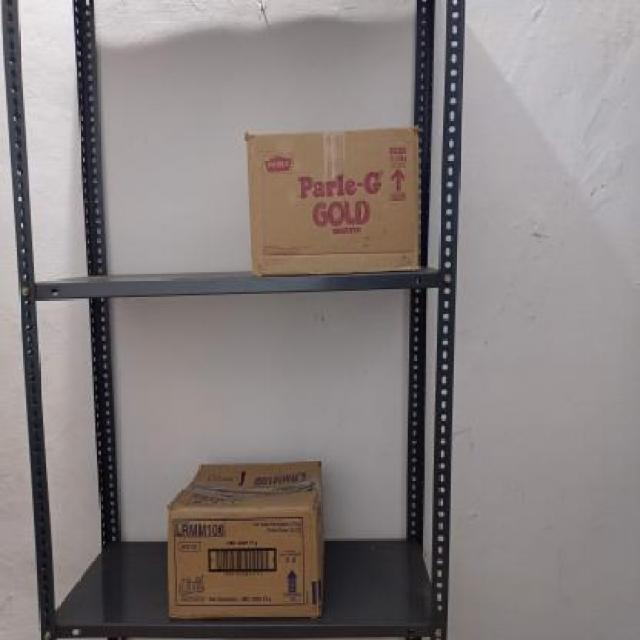box: (247, 124, 421, 270), (166, 507, 323, 616)
